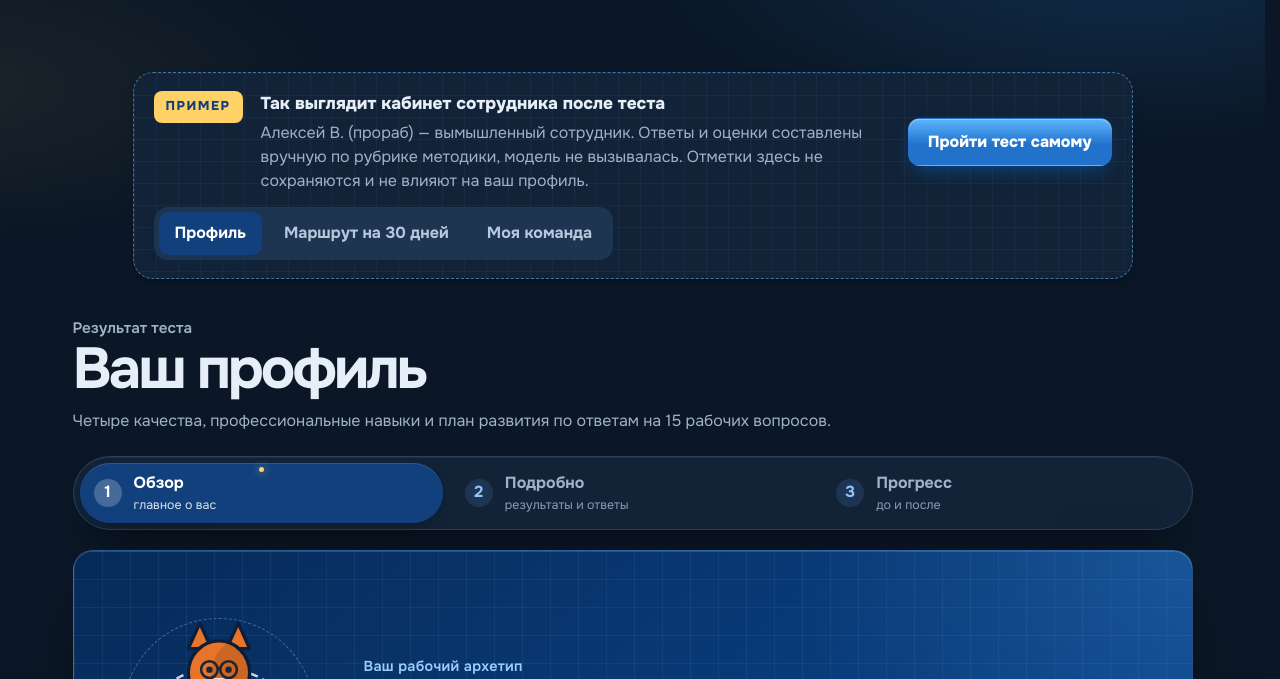
пример кабинета сотрудника по действующей методике › прогресс: «до и после» к первому прохождению, разбор ответов без кнопки запроса к модели
What coordinates should you click on to do the following:
click the tab "3 Прогресс до и после"
I would click on:
 (914, 482)
Its box is [822, 463, 1186, 523].
(page scrolled)
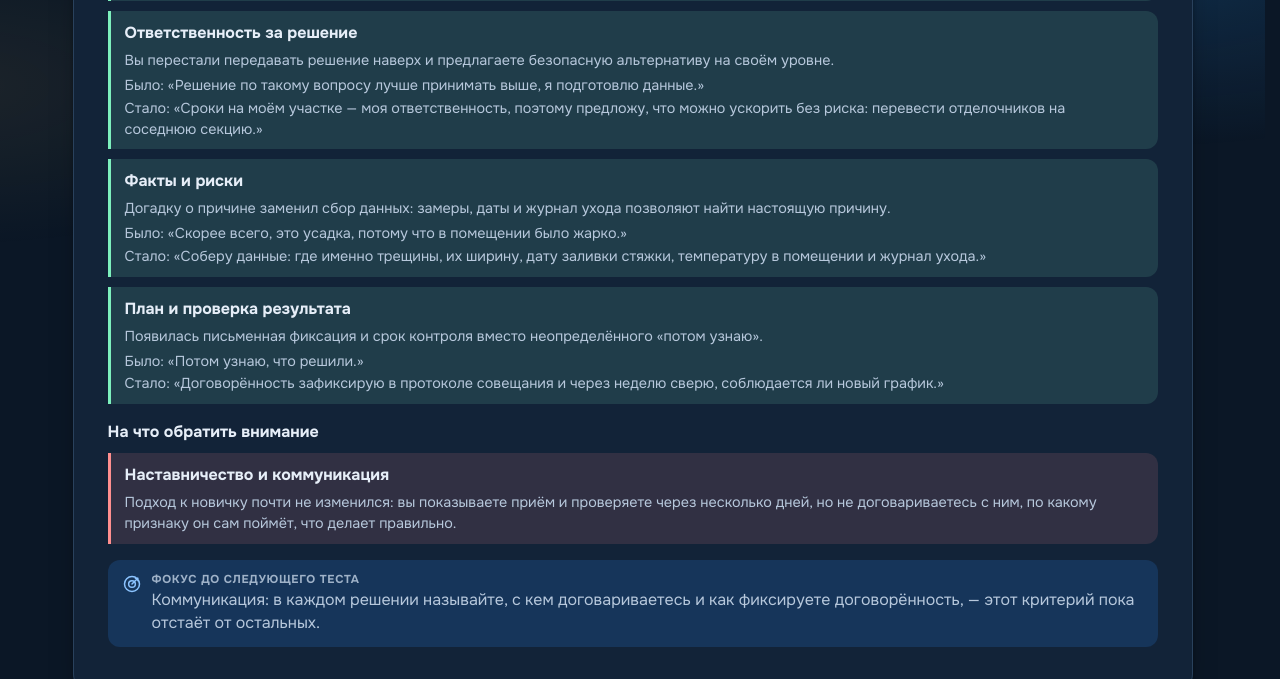
Now the text "«Потом узнаю, что решили.»" is shown, box [124, 352, 364, 370]
